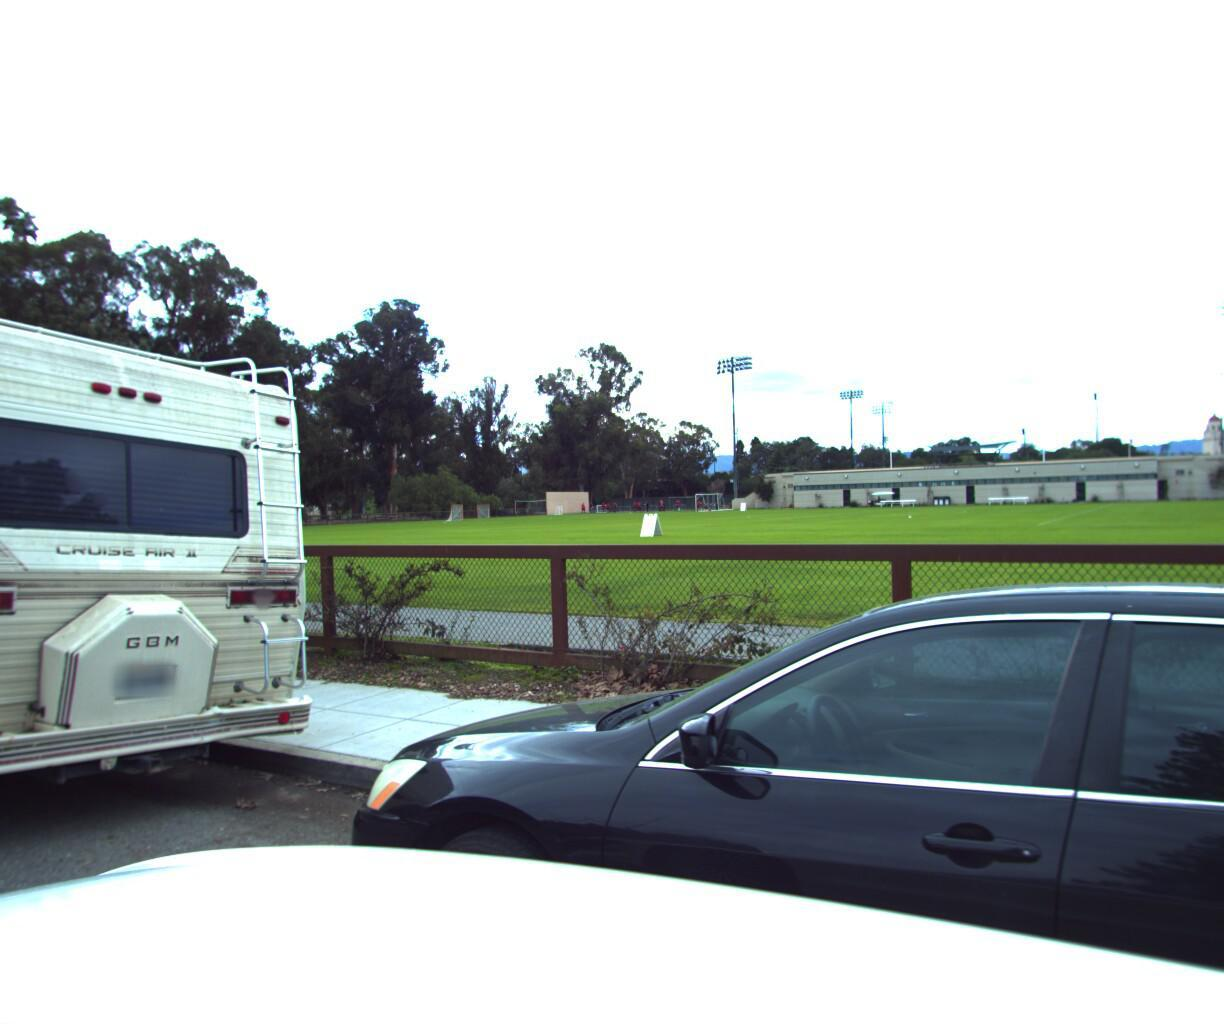car: (228, 548, 1224, 1024)
other_vehicle: (0, 238, 369, 937)
